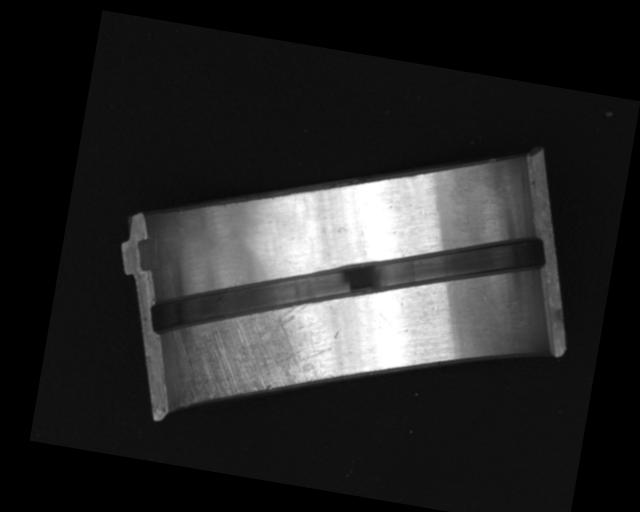gap: (147, 175, 549, 396)
scratch: (170, 282, 337, 426)
